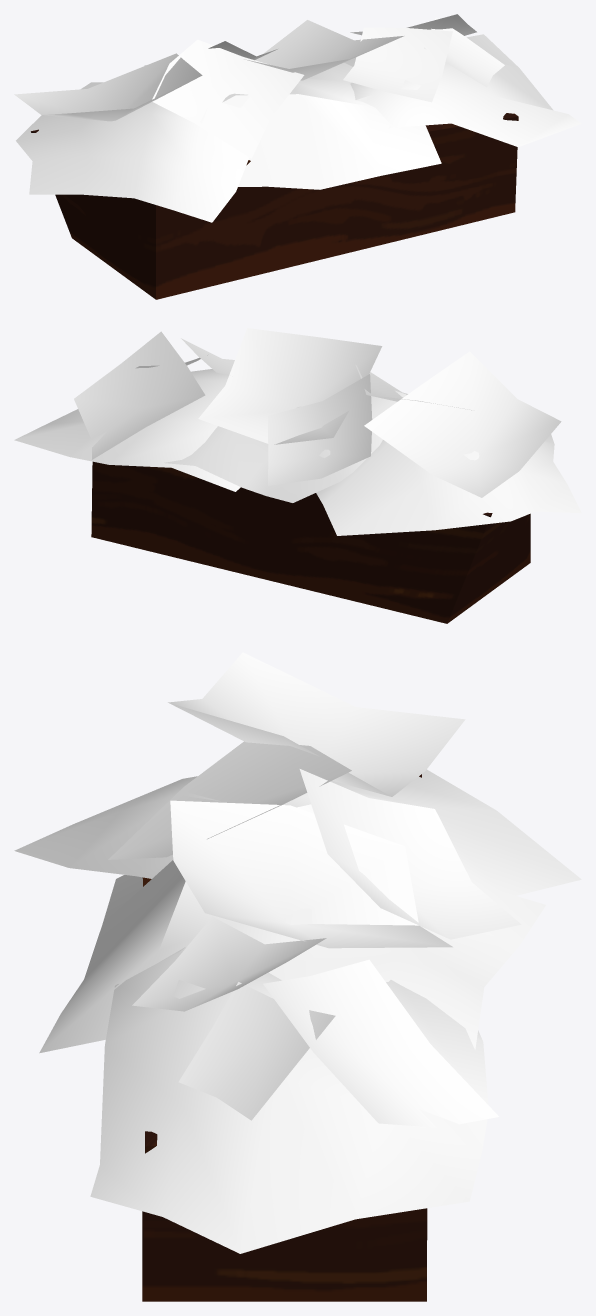
Rendered from SM_PROP_PLANT_pot_v1_01.fbx.
3 views of the same model, one above another, from view 1: azimuth 30°, elevation 25°; view 2: azimuth 150°, elevation 25°; view 3: azimuth 270°, elevation 25° (orthographic). The views are drawn at different scales.
Visible parts, largest first — view 1: SM_PROP_PLANT_pot_v1_01; view 2: SM_PROP_PLANT_pot_v1_01; view 3: SM_PROP_PLANT_pot_v1_01.
Boxes of the visible parts, <box> form: SM_PROP_PLANT_pot_v1_01: <box>14,14,581,299</box>; SM_PROP_PLANT_pot_v1_01: <box>14,328,581,623</box>; SM_PROP_PLANT_pot_v1_01: <box>14,652,581,1301</box>.
Bounding box in the file's own units: 106 × 40.43 × 59.85.
